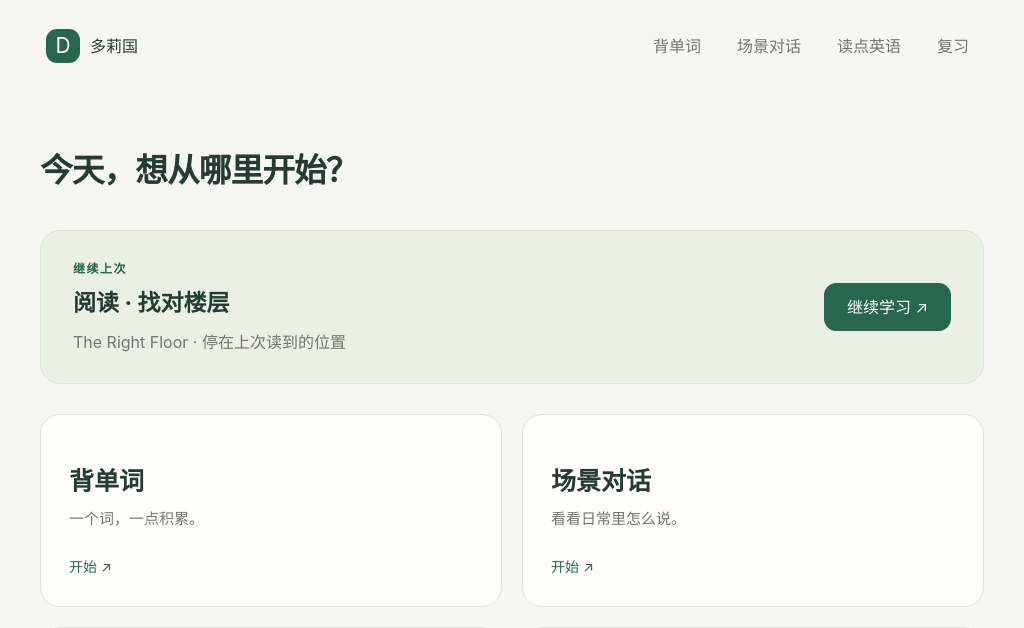
Test case: opens extension reading reading-right-floor from home resume
Click the button "继续学习 ↗": {"x": 888, "y": 307} left=824, top=283, right=951, bottom=332
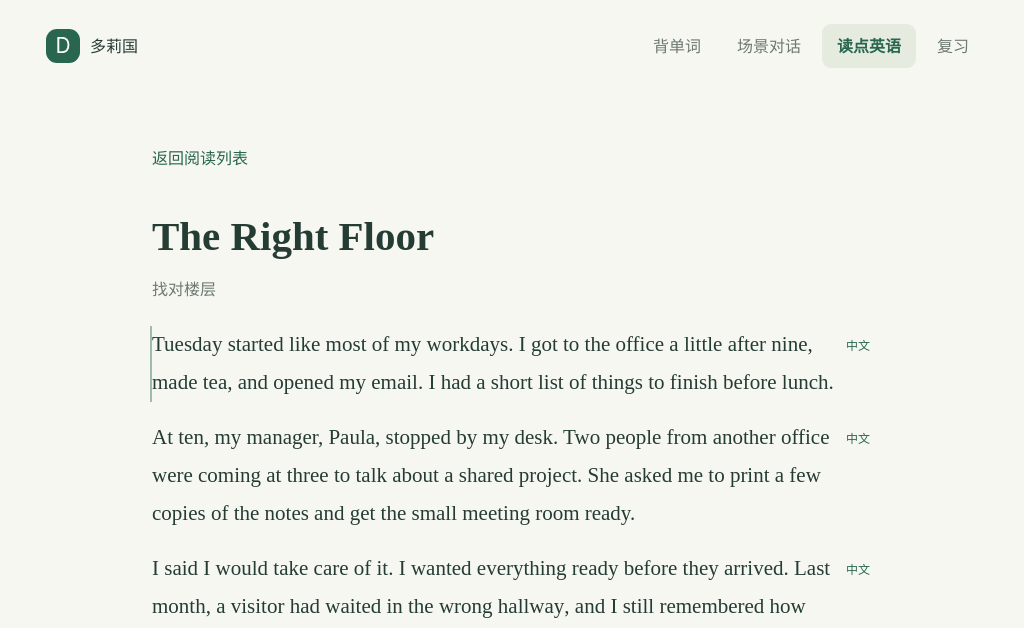
Expected: the heading "The Right Floor" is shown, left=152, top=213, right=434, bottom=259
